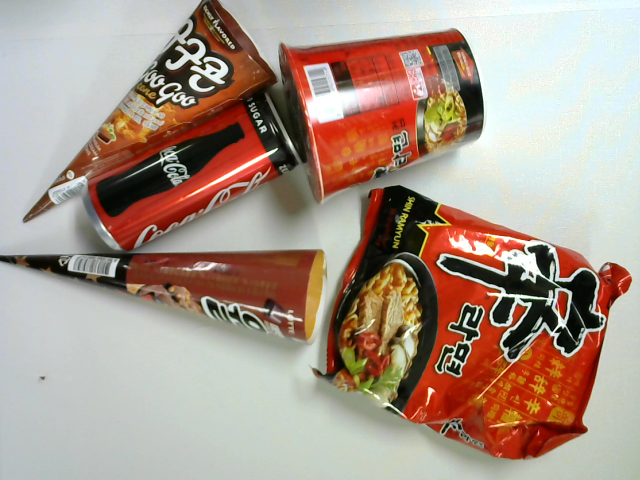Coca_Cola_Zero_Can_250ml: (82, 89, 305, 258)
GooGoo_Cone_CVS: (18, 1, 284, 230)
Sinramen: (312, 189, 625, 459)
Sinramen_small: (275, 22, 492, 204)
World_Cone_Choco: (1, 241, 332, 349)
